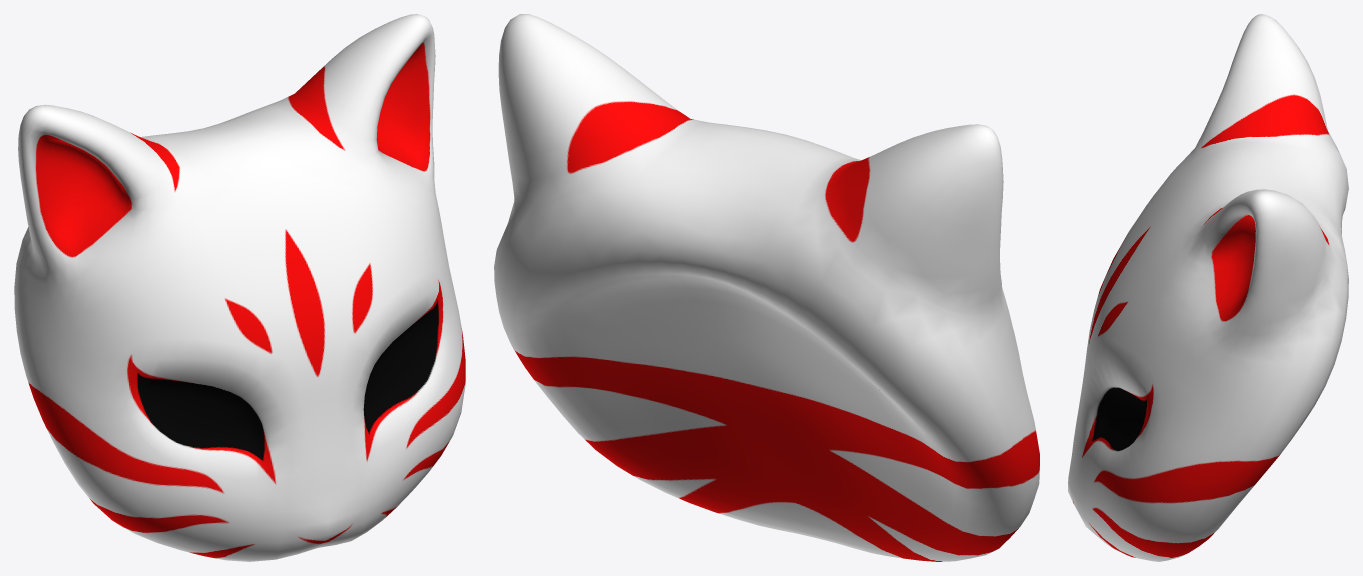
Rendered from Cat Mask.fbx.
The picture shows the model from 3 angles, left to right: view 1: azimuth 30°, elevation 25°; view 2: azimuth 150°, elevation 25°; view 3: azimuth 270°, elevation 25°; orthographic projection. The views are drawn at different scales.
Visible parts, largest first — view 1: Cat mask; view 2: Cat mask; view 3: Cat mask.
Boxes of the visible parts, x1,y1,x2,y2 form: Cat mask: (14, 14, 465, 561); Cat mask: (494, 14, 1039, 561); Cat mask: (1068, 14, 1348, 561).
Bounding box in the file's own units: 60.87 × 61.45 × 37.11.
